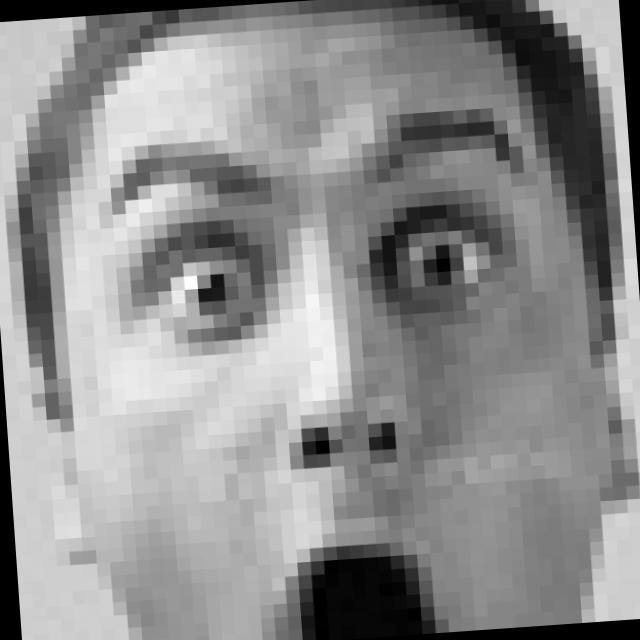surprise: (87, 87, 572, 640)
